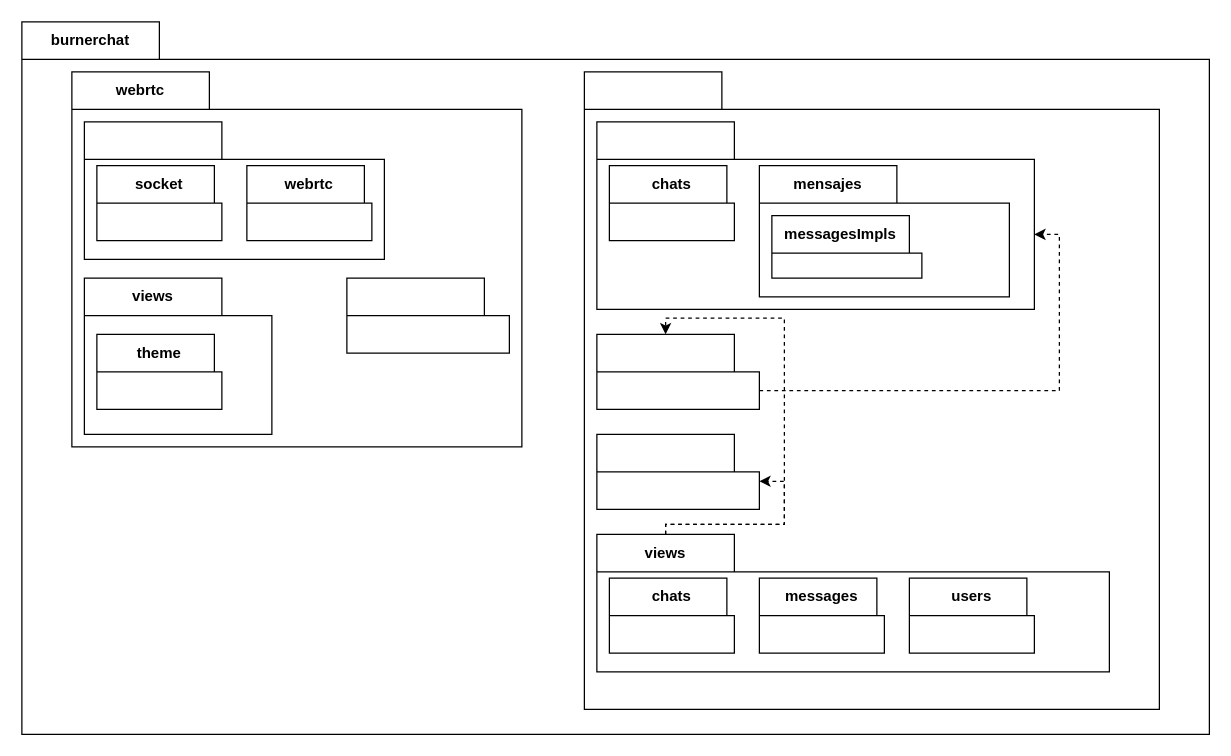
Image size: 1231x756. Some labels were removed from this diagram. Each missing label, with the box of its shape:
backend: (83, 121, 384, 259)
business: (346, 277, 509, 353)
firebase: (583, 71, 1159, 709)
model: (596, 121, 1034, 309)
preferences: (596, 433, 759, 509)
repositories: (596, 333, 759, 409)
